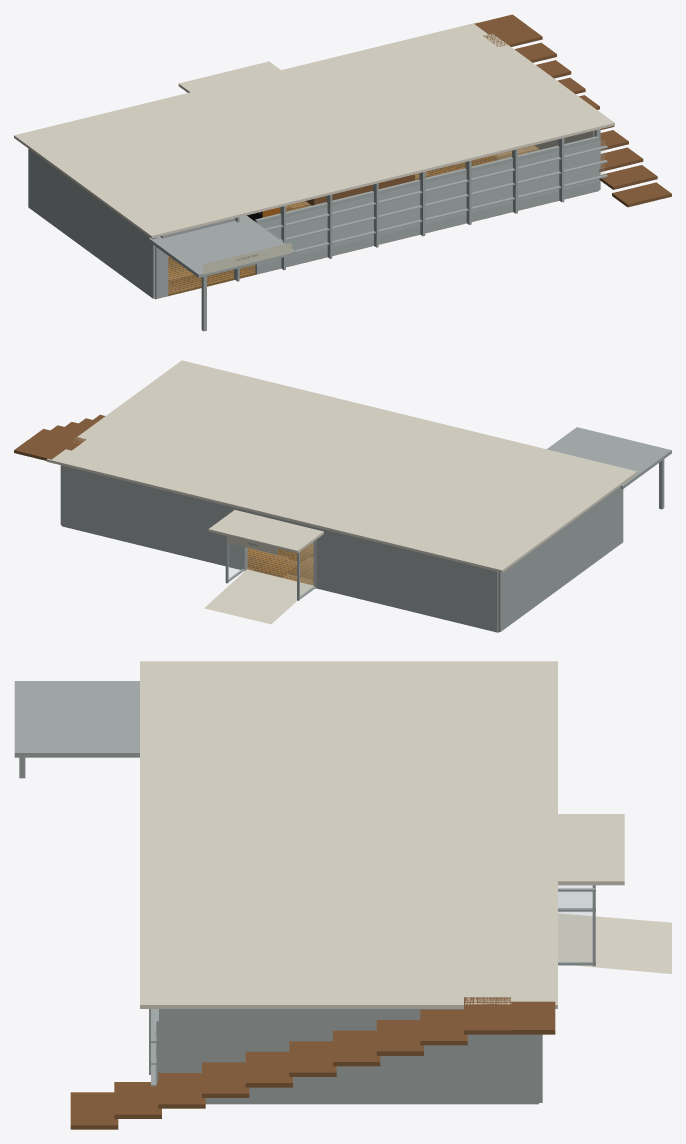
3 views of the same model, one above another, from view 1: azimuth 30°, elevation 25°; view 2: azimuth 150°, elevation 25°; view 3: azimuth 270°, elevation 25° (orthographic). The views are drawn at different scales.
Parts seen in each view (by area): view 1: museum-roof, 도산 안창호 기념관, museum-exterior-step-0, museum-exterior-step-1, museum-exterior-step-9, museum-exterior-step-2, museum-exterior-landing, museum-exterior-step-8; view 2: museum-roof, 도산 안창호 기념관, museum-exterior-step-9, museum-exterior-landing; view 3: museum-roof, 도산 안창호 기념관, museum-exterior-step-9, museum-exterior-step-0, museum-exterior-step-4, museum-exterior-step-1, museum-exterior-step-8, museum-exterior-step-6, museum-exterior-step-7, museum-exterior-step-2, museum-exterior-step-5, museum-exterior-step-3 (+1 smaller).
Boxes of the visible parts, <box> form: museum-roof: <box>14,22,614,238</box>; 도산 안창호 기념관: <box>28,61,607,331</box>; museum-exterior-step-0: <box>612,182,671,207</box>; museum-exterior-step-1: <box>599,165,657,189</box>; museum-exterior-step-9: <box>483,25,542,46</box>; museum-exterior-step-2: <box>599,147,643,172</box>; museum-exterior-landing: <box>474,14,526,34</box>; museum-exterior-step-8: <box>514,42,556,62</box>; museum-roof: <box>46,360,637,572</box>; 도산 안창호 기념관: <box>60,427,671,632</box>; museum-exterior-step-9: <box>28,429,86,450</box>; museum-exterior-landing: <box>14,440,65,460</box>; museum-roof: <box>140,661,557,1008</box>; 도산 안창호 기념관: <box>14,681,671,1104</box>; museum-exterior-step-9: <box>464,997,511,1034</box>; museum-exterior-step-0: <box>70,1092,118,1129</box>; museum-exterior-step-4: <box>245,1051,292,1087</box>; museum-exterior-step-1: <box>114,1082,161,1118</box>; museum-exterior-step-8: <box>420,1009,467,1045</box>; museum-exterior-step-6: <box>333,1030,380,1066</box>; museum-exterior-step-7: <box>376,1020,423,1055</box>; museum-exterior-step-2: <box>158,1071,205,1108</box>; museum-exterior-step-5: <box>289,1041,336,1076</box>; museum-exterior-step-3: <box>202,1062,249,1097</box>.
Size of the model in its own units: 32.48 by 4.75 by 24.47.
Materials: 30 (10 with a texture image).
